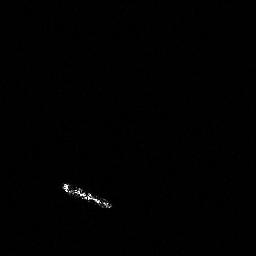ship: (61, 182, 113, 211)
